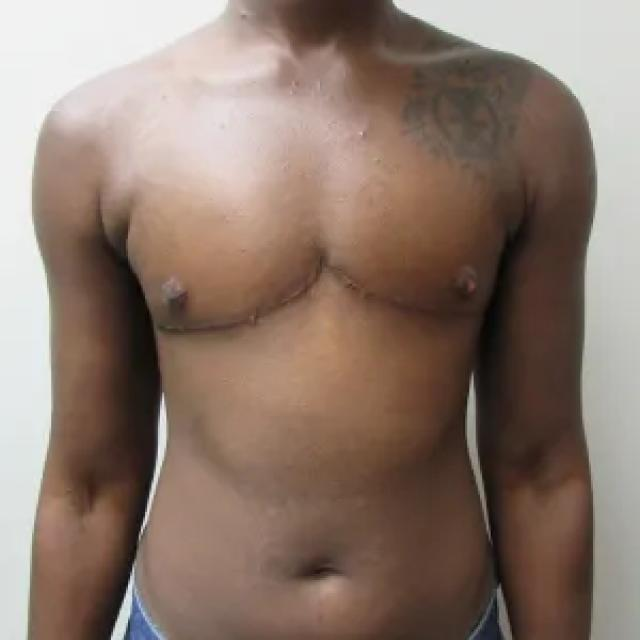Seno herido: (124, 182, 322, 350), (328, 186, 521, 352)
